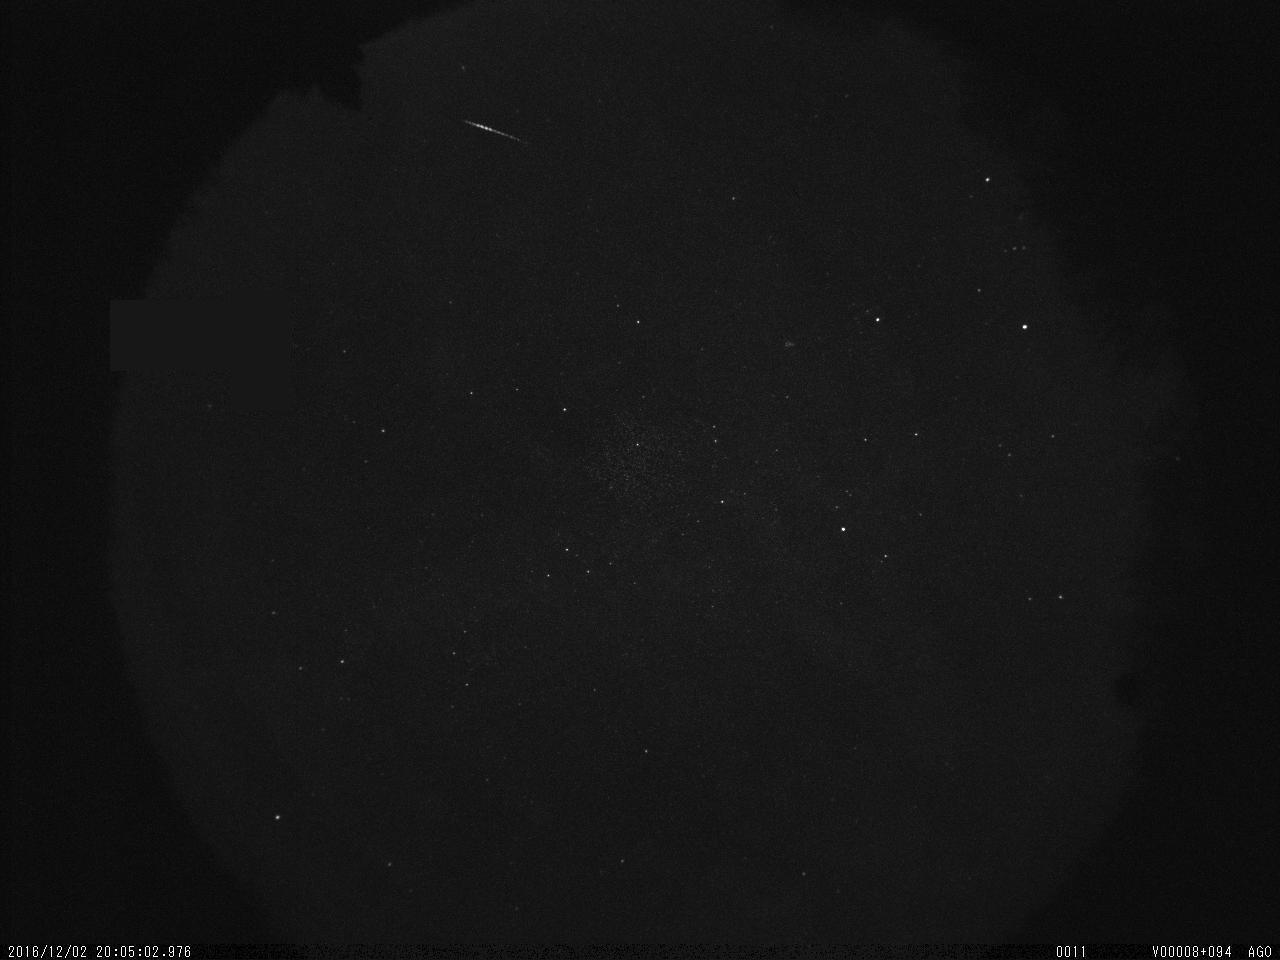meteor: (452, 108, 543, 154)
